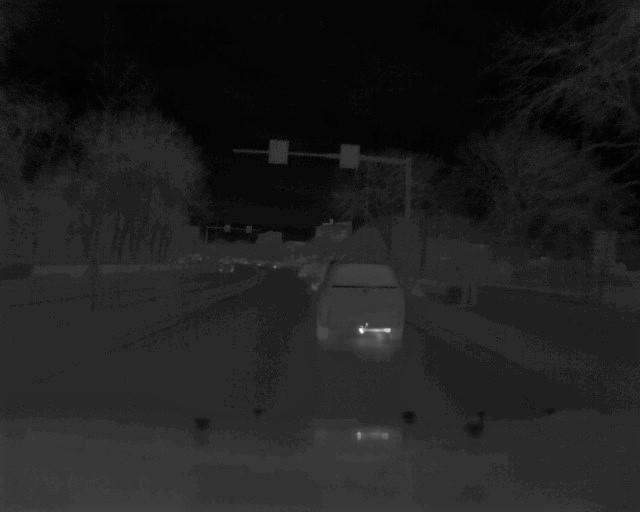car: (315, 262, 407, 350)
